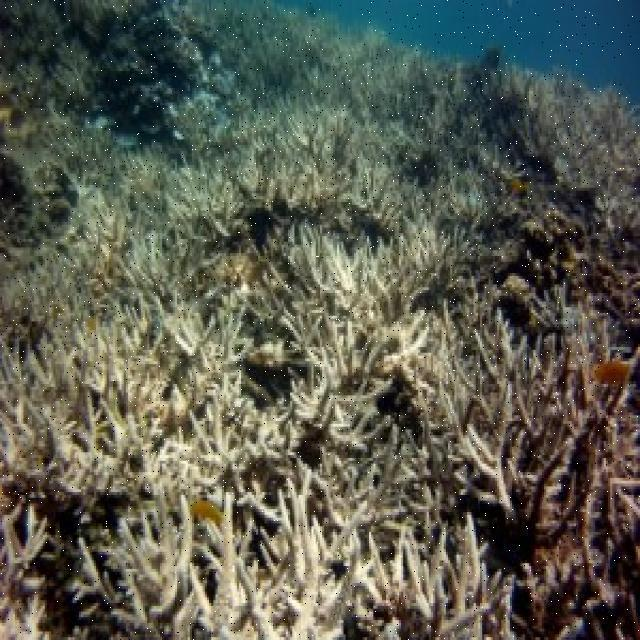Bleached: (4, 122, 261, 523), (411, 291, 589, 534)
